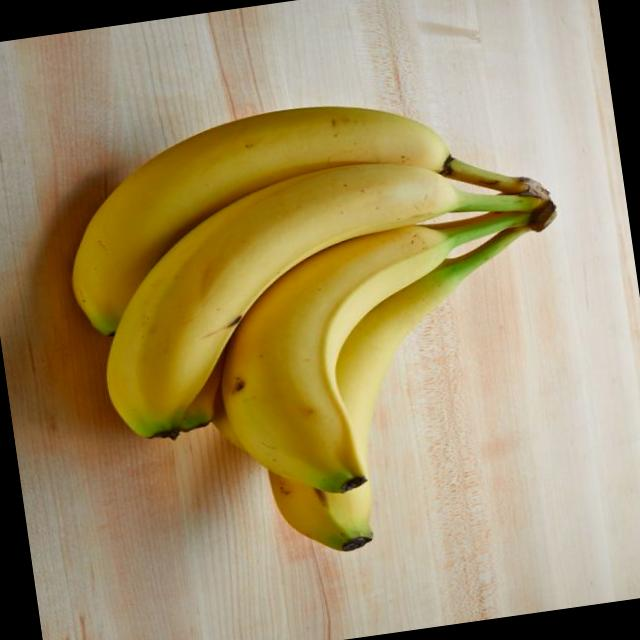Platano: (46, 72, 604, 586)
